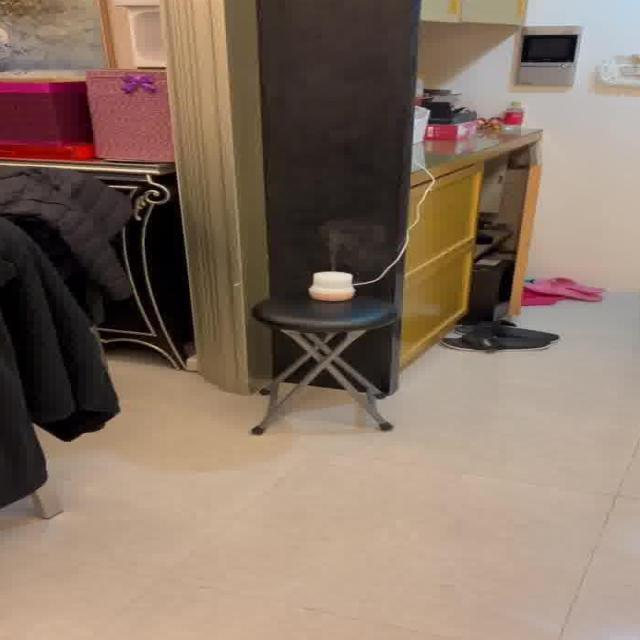fire: (309, 217, 386, 264)
